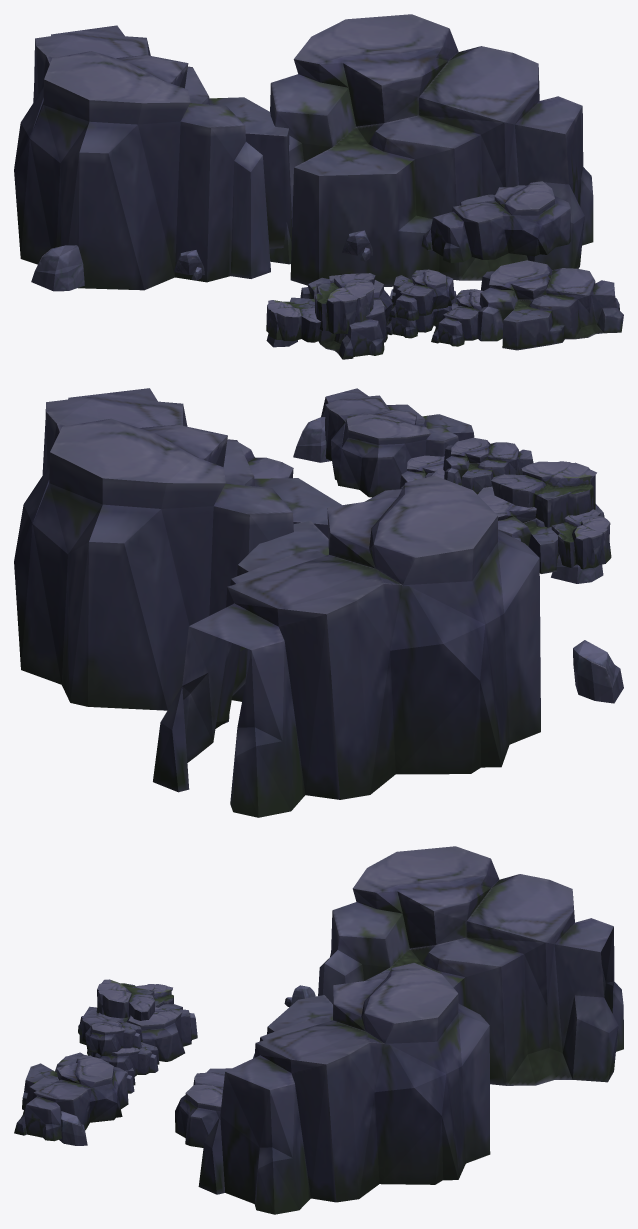
File: Area14_1.fbx
3 views of the same model, one above another, from view 1: azimuth 30°, elevation 25°; view 2: azimuth 150°, elevation 25°; view 3: azimuth 270°, elevation 25° (orthographic). The views are drawn at different scales.
Parts seen in each view (by area): view 1: Area14_1; view 2: Area14_1; view 3: Area14_1.
Boxes of the visible parts, x1=… form: Area14_1: x1=14, y1=14, x2=623, y2=359; Area14_1: x1=14, y1=388, x2=623, y2=817; Area14_1: x1=14, y1=846, x2=623, y2=1214.
Bounding box in the file's own units: 6689 × 2354 × 7625.
